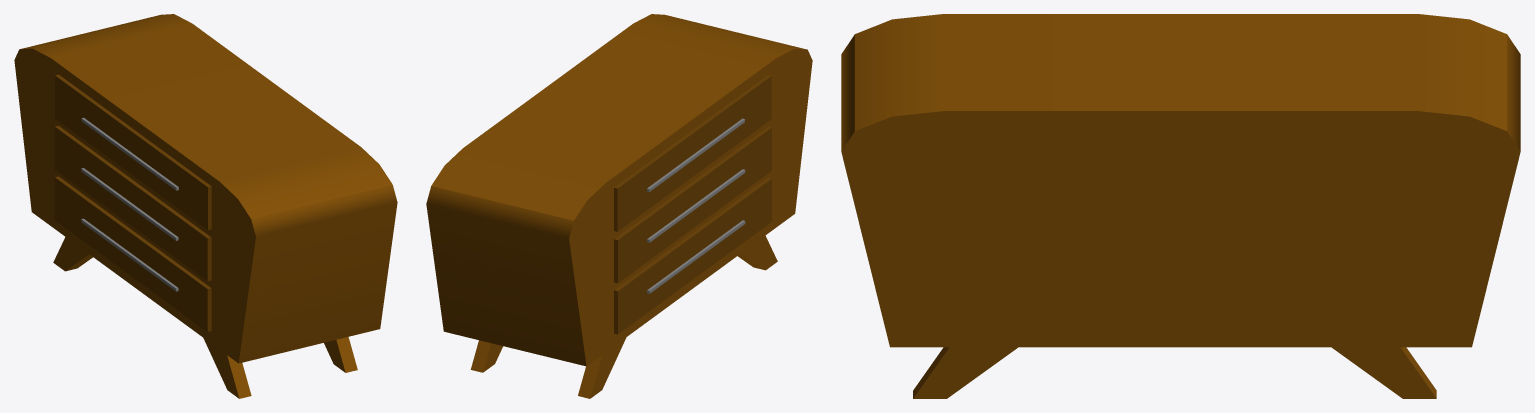
File: Dresser.obj
The picture shows the model from 3 angles, left to right: view 1: azimuth 30°, elevation 25°; view 2: azimuth 150°, elevation 25°; view 3: azimuth 270°, elevation 25°; orthographic projection. The views are drawn at different scales.
Parts seen in each view (by area): view 1: Dresser; view 2: Dresser; view 3: Dresser.
Part boxes in pixels (left/top/right/bottom): Dresser: left=14, top=14, right=397, bottom=398; Dresser: left=426, top=14, right=812, bottom=398; Dresser: left=841, top=14, right=1520, bottom=398.
Bounding box in the file's own units: 80.57 × 110 × 228.
